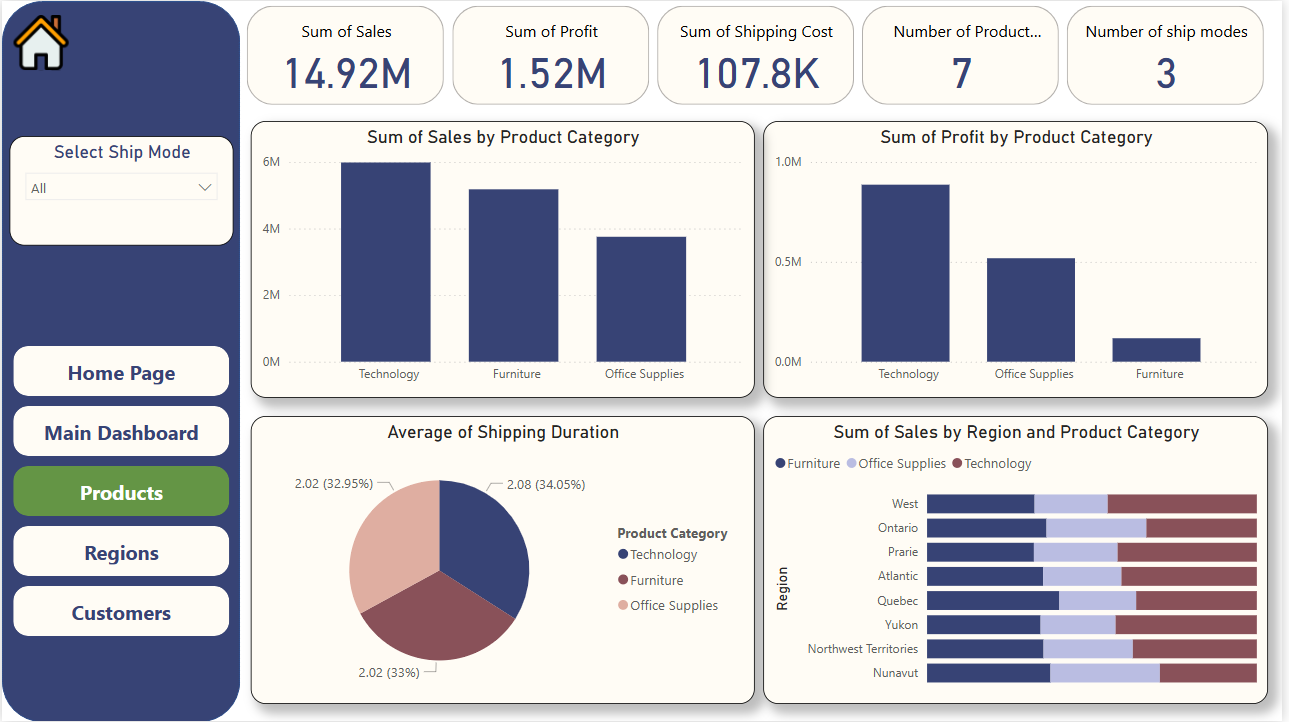

This screenshot's page, from the dashboard's own definition file:
{"tool":"powerbi","page":{"name":"Products","canvas":[1280,720],"ordinal":2},"visuals":[{"type":"cardVisual","fields":{"Data":["Sum(Final Data.Sales)","Sum(Final Data.Profit)","Sum(Final Data.Shipping Cost)","Count(Final Data.Product Container)","Count(Final Data.Ship Mode)"]},"box":[239.4,0,1028.2,109.9],"z":0},{"type":"slicer","title":"Select Ship Mode","fields":{"Values":["Final Data.Ship Mode"]},"box":[7,135.2,223.9,109.9],"z":1000},{"type":"columnChart","title":"Sum of Profit by Product Category","fields":{"Category":["Final Data.Product Category"],"Y":["Sum(Final Data.Profit)"]},"box":[761.6,119.4,505,277.2],"z":2000},{"type":"columnChart","title":"Sum of Sales by Product Category","fields":{"Category":["Final Data.Product Category"],"Y":["Sum(Final Data.Sales)"]},"box":[248.4,119.4,503.6,277.2],"z":3000},{"type":"pieChart","title":"Average of Shipping Duration","fields":{"Category":["Final Data.Product Category"],"Y":["Avg(Final Data.Shipping Duration)"]},"box":[248.4,414.4,503.6,288.2],"z":4000},{"type":"hundredPercentStackedBarChart","fields":{"Category":["Final Data.Region"],"Y":["Sum(Final Data.Sales)"],"Series":["Final Data.Product Category"]},"box":[761.6,414.4,505,288.2],"z":5000},{"type":"pageNavigator","box":[11,344.4,216.8,293.7],"z":6000},{"type":"actionButton","box":[7,9.9,78.9,63.4],"z":7000}]}

Visuals, with their boxes in screenshot pixels (x1, y1, x2, y2), scaled from the page's 1280x720 canvas onto the 1289x722 screenshot:
cardVisual - Sum(Final Data.Sales) x Sum(Final Data.Profit): x1=241, y1=0, x2=1277, y2=110
"Select Ship Mode" slicer: x1=7, y1=136, x2=233, y2=246
"Sum of Profit by Product Category" columnChart: x1=767, y1=120, x2=1276, y2=398
"Sum of Sales by Product Category" columnChart: x1=250, y1=120, x2=757, y2=398
"Average of Shipping Duration" pieChart: x1=250, y1=416, x2=757, y2=705
hundredPercentStackedBarChart - Final Data.Region x Sum(Final Data.Sales): x1=767, y1=416, x2=1276, y2=705
pageNavigator: x1=11, y1=345, x2=229, y2=640
actionButton: x1=7, y1=10, x2=87, y2=74
